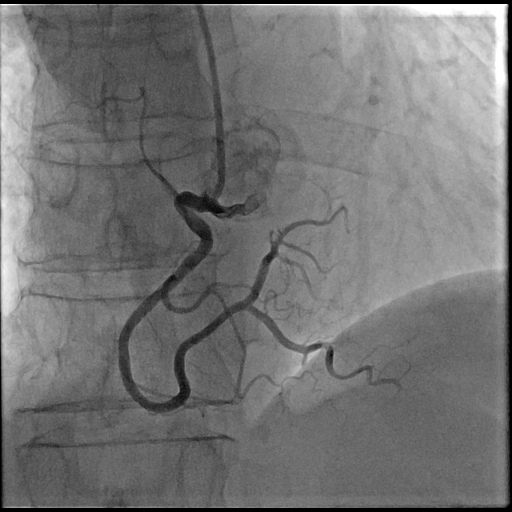RCA: (118, 192, 336, 413)
catherter: (196, 6, 225, 198)
